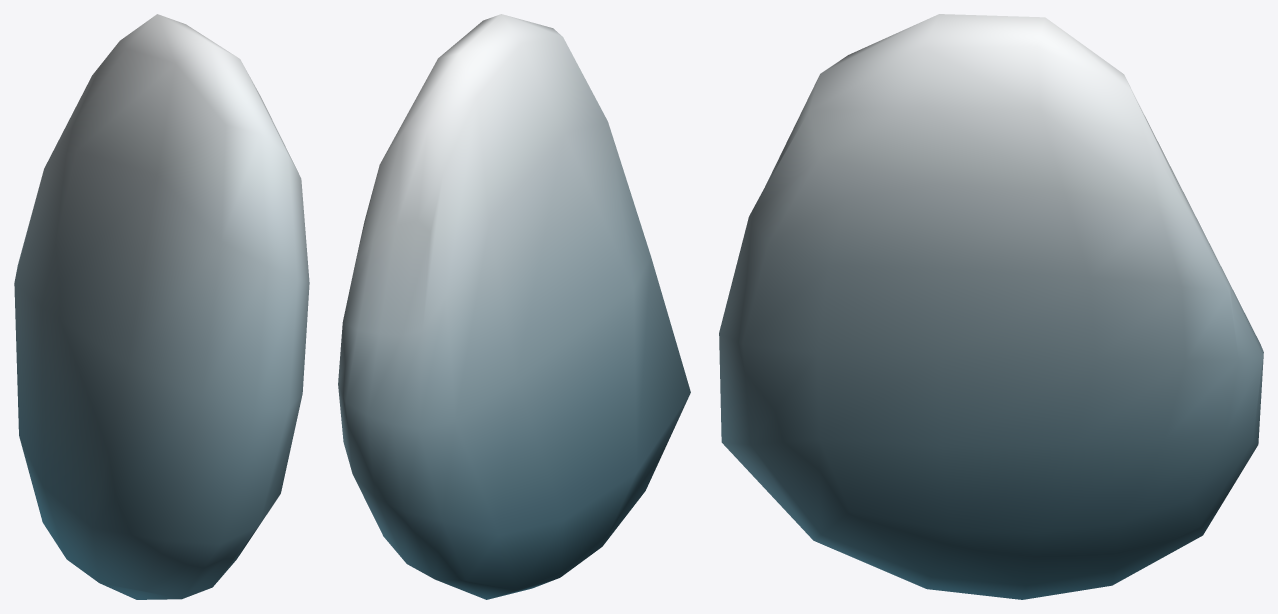
File: Rock_01.fbx
3 views of the same model, side by side, from view 1: azimuth 30°, elevation 25°; view 2: azimuth 150°, elevation 25°; view 3: azimuth 270°, elevation 25° (orthographic). The views are drawn at different scales.
Visible parts, largest first — view 1: RockMesh_01; view 2: RockMesh_01; view 3: RockMesh_01.
Boxes of the visible parts, x1=… form: RockMesh_01: x1=14, y1=14, x2=309, y2=599; RockMesh_01: x1=338, y1=14, x2=690, y2=599; RockMesh_01: x1=719, y1=14, x2=1263, y2=599.
Size of the model in its own units: 3729 by 10649 by 8576.
